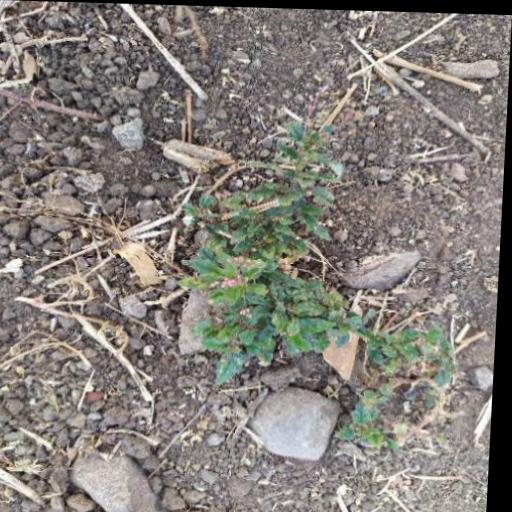weed: (155, 126, 468, 462)
